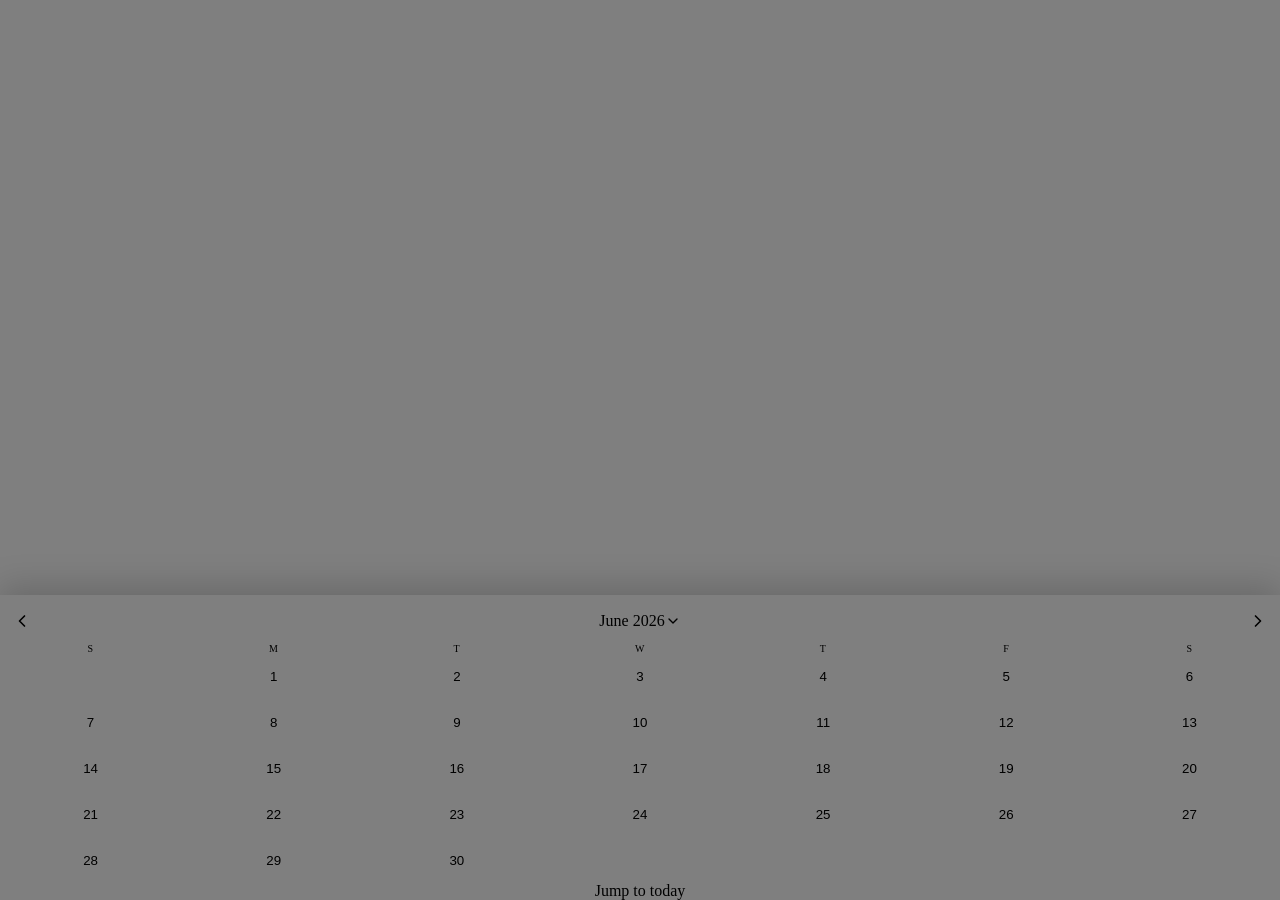
Scenario: MobileDatePicker › navigates to the next and previous month without selecting
Click the button named "next month".
click(1258, 621)  # box [1236, 599, 1279, 643]
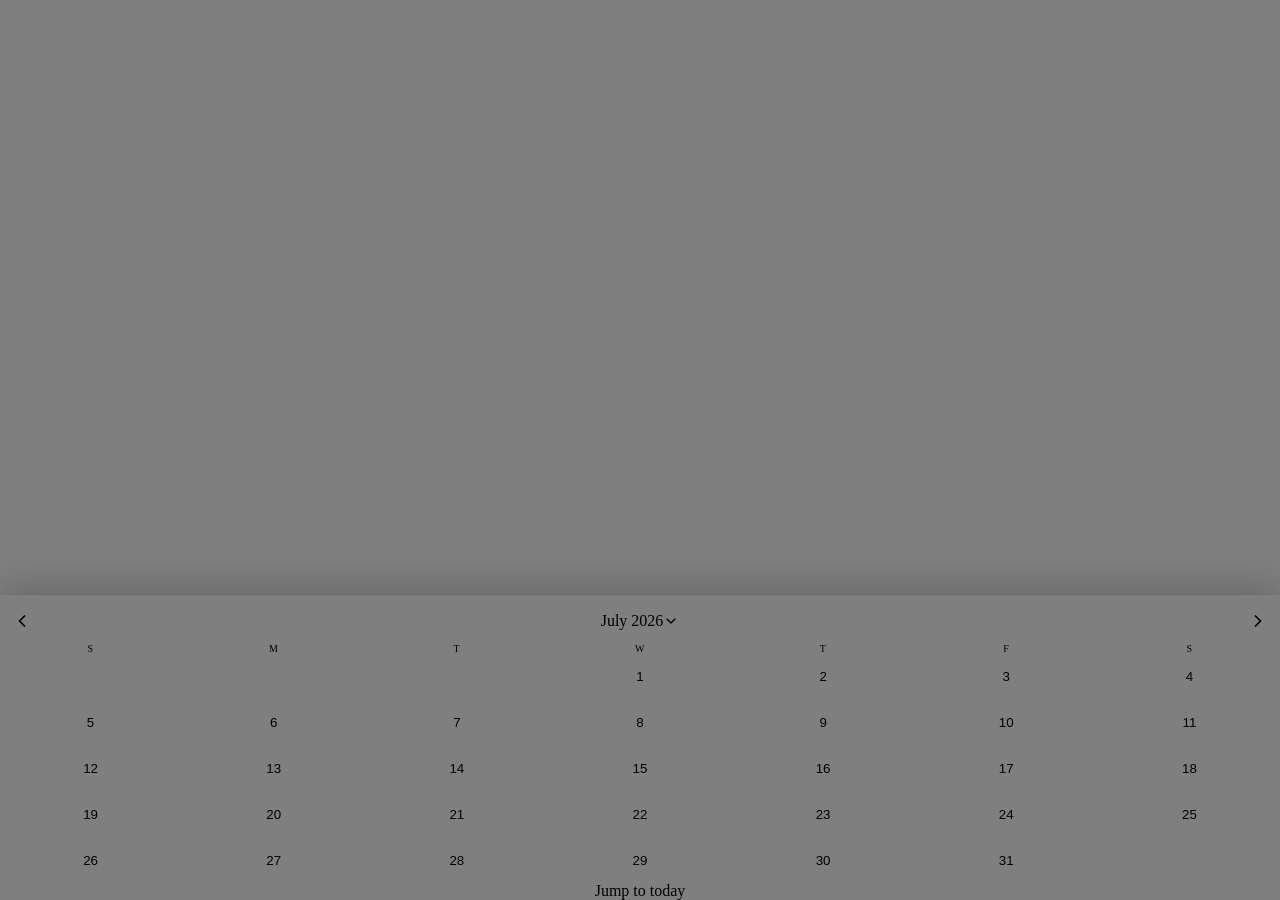
Now the text "July 2026" is shown, box [601, 612, 663, 630]
Click the button named "previous month".
click(22, 621)  # box [0, 599, 44, 643]
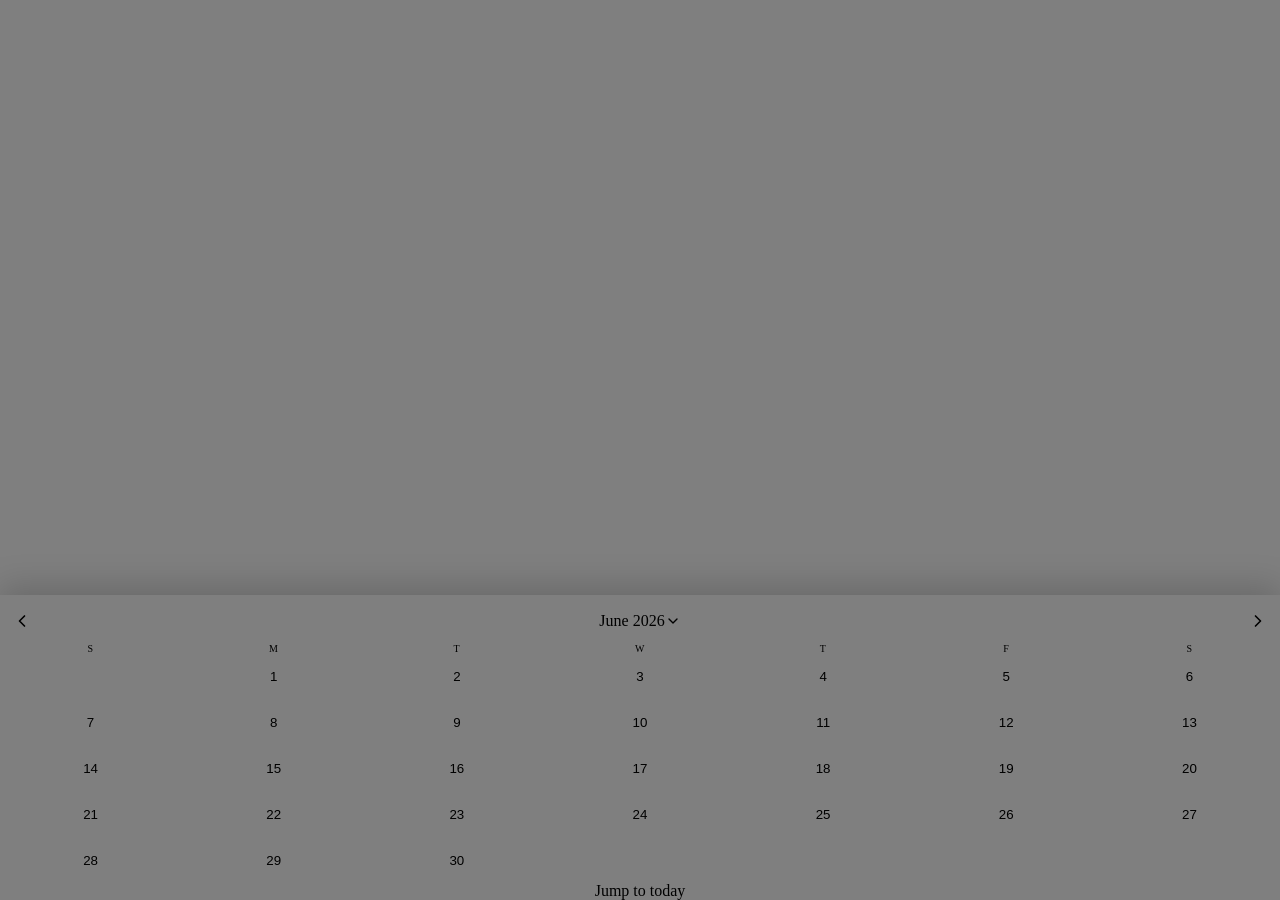
Click the button named "previous month".
click(22, 621)  # box [0, 599, 44, 643]
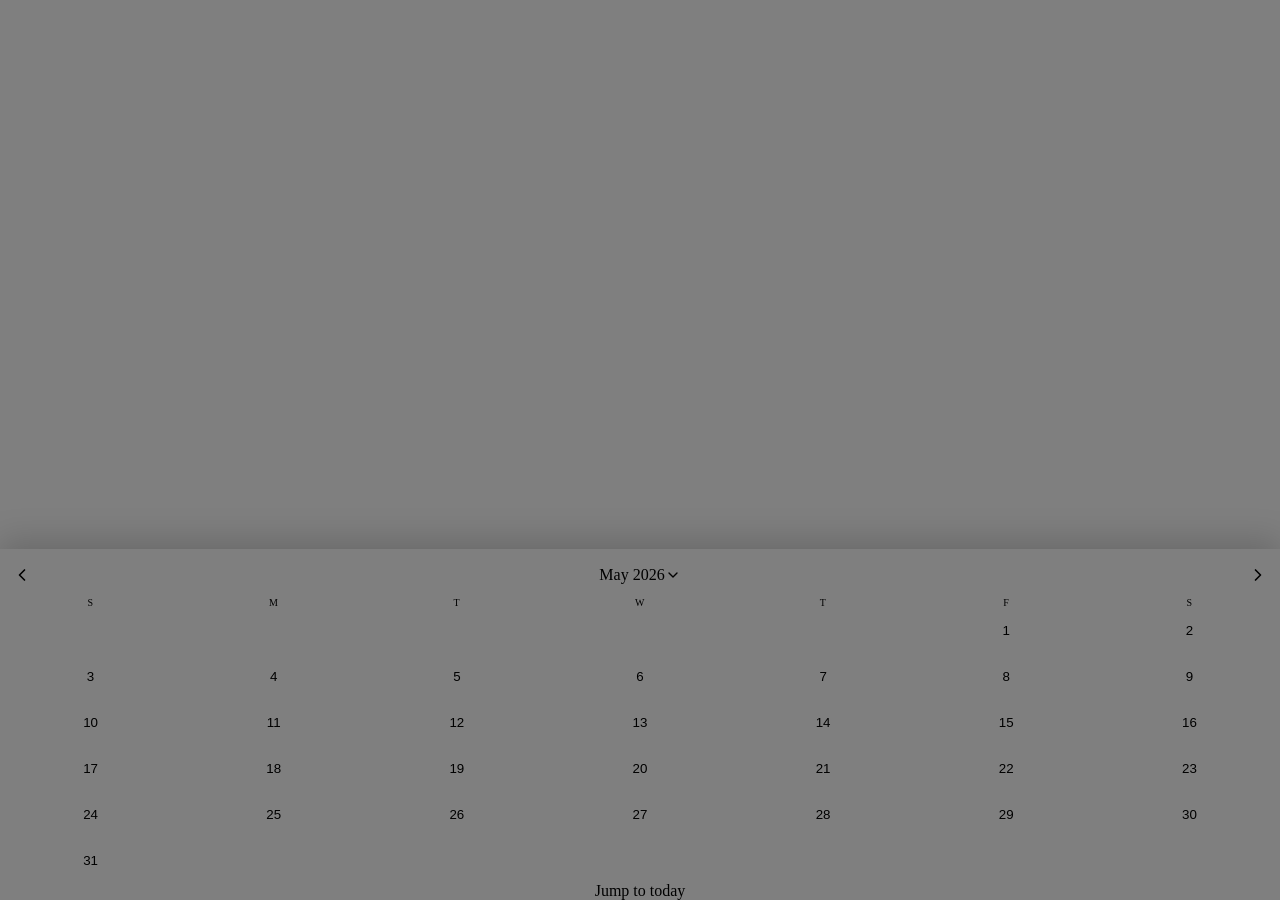
Now the text "May 2026" is shown, box [599, 566, 665, 584]
